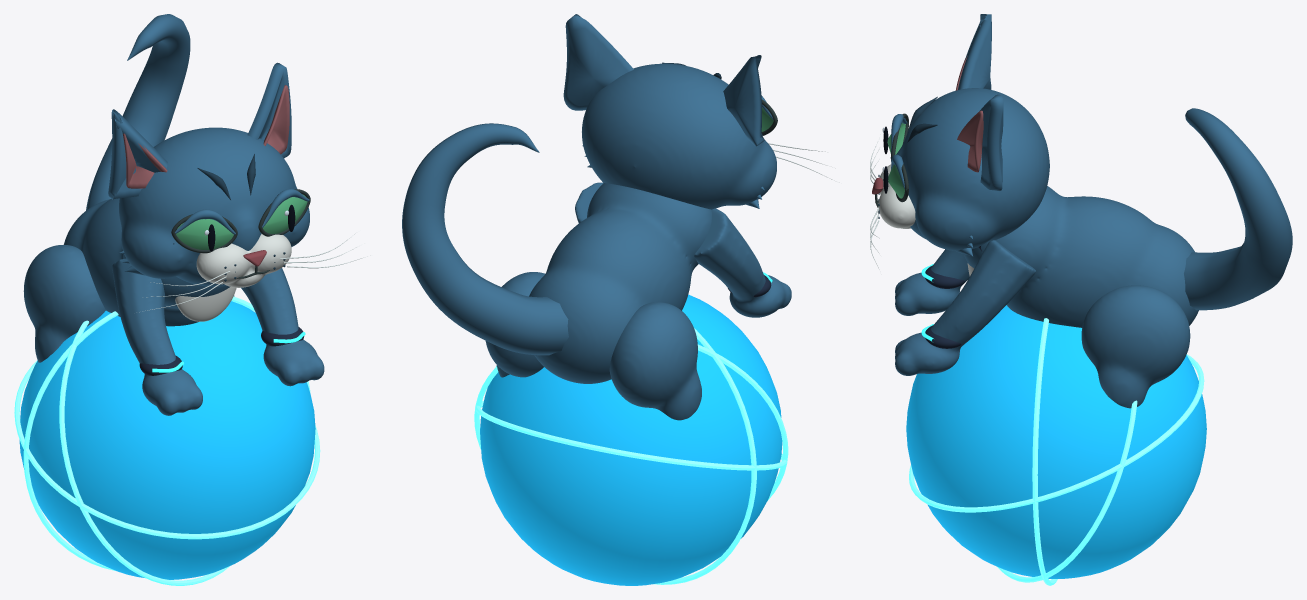
The model's file is blue-cat-v2.glb.
3 views of the same model, side by side, from view 1: azimuth 30°, elevation 25°; view 2: azimuth 150°, elevation 25°; view 3: azimuth 270°, elevation 25° (orthographic). The views are drawn at different scales.
Visible parts, largest first — view 1: Gliding orb, Feline head sculpt, Sweeping tail, Foreleg and soft paw, Bent rear leg, Cat torso sculpt, Foreleg and soft paw.001, Ivory muzzle sculpt, Orb energy ring, Outer ear, Orb energy ring.001, Orb energy ring.002 (+7 smaller); view 2: Gliding orb, Cat torso sculpt, Feline head sculpt, Sweeping tail, Bent rear leg, Foreleg and soft paw, Outer ear.001, Outer ear, Orb energy ring, Orb energy ring.002, Bent rear leg.001, Orb energy ring.001; view 3: Gliding orb, Cat torso sculpt, Feline head sculpt, Sweeping tail, Bent rear leg.001, Foreleg and soft paw.001, Foreleg and soft paw, Orb energy ring, Outer ear.001, Outer ear, Orb energy ring.002, Orb energy ring.001 (+2 smaller).
Boxes of the visible parts, box(x1,y1,x2,y2) form: Gliding orb: box(19, 301, 315, 579); Feline head sculpt: box(119, 127, 309, 286); Sweeping tail: box(86, 14, 190, 210); Foreleg and soft paw: box(112, 258, 202, 415); Bent rear leg: box(23, 245, 105, 362); Cat torso sculpt: box(64, 198, 230, 326); Foreleg and soft paw.001: box(241, 268, 324, 386); Ivory muzzle sculpt: box(196, 234, 291, 287); Orb energy ring: box(14, 360, 320, 539); Outer ear: box(108, 109, 167, 199); Orb energy ring.001: box(59, 320, 229, 585); Orb energy ring.002: box(23, 296, 310, 570); Gliding orb: box(480, 294, 782, 585); Cat torso sculpt: box(529, 183, 711, 383); Feline head sculpt: box(582, 63, 776, 209); Sweeping tail: box(402, 123, 568, 355); Bent rear leg: box(609, 302, 701, 420); Foreleg and soft paw: box(694, 208, 791, 317); Outer ear.001: box(563, 14, 633, 110); Outer ear: box(723, 55, 764, 146); Orb energy ring: box(475, 401, 786, 470); Orb energy ring.002: box(653, 328, 756, 584); Bent rear leg.001: box(485, 272, 545, 377); Orb energy ring.001: box(474, 344, 788, 500); Gliding orb: box(906, 305, 1206, 578); Cat torso sculpt: box(964, 186, 1198, 327); Feline head sculpt: box(896, 88, 1049, 250); Sweeping tail: box(1184, 108, 1292, 310); Bent rear leg.001: box(1081, 285, 1190, 408); Foreleg and soft paw.001: box(895, 240, 1035, 375); Foreleg and soft paw: box(895, 249, 969, 315); Orb energy ring: box(909, 354, 1204, 512); Outer ear.001: box(979, 94, 1003, 190); Outer ear: box(958, 14, 991, 89); Orb energy ring.002: box(1032, 318, 1057, 585); Orb energy ring.001: box(997, 400, 1137, 582).
Size of the model in its own units: 1.51 by 2.73 by 2.02.
